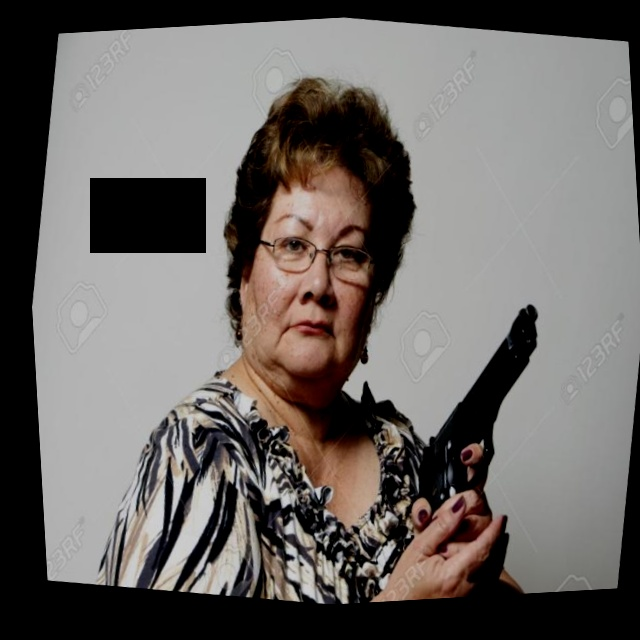gun: (379, 275, 577, 600)
